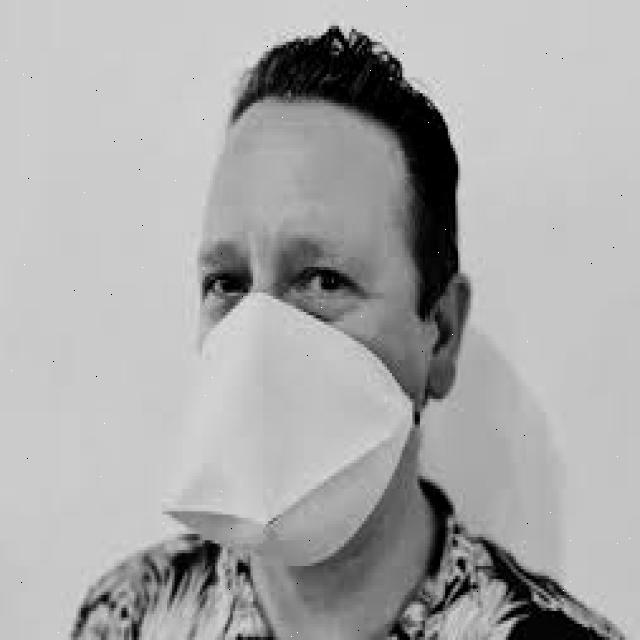fake: (147, 290, 409, 596)
real: (194, 91, 436, 575)
